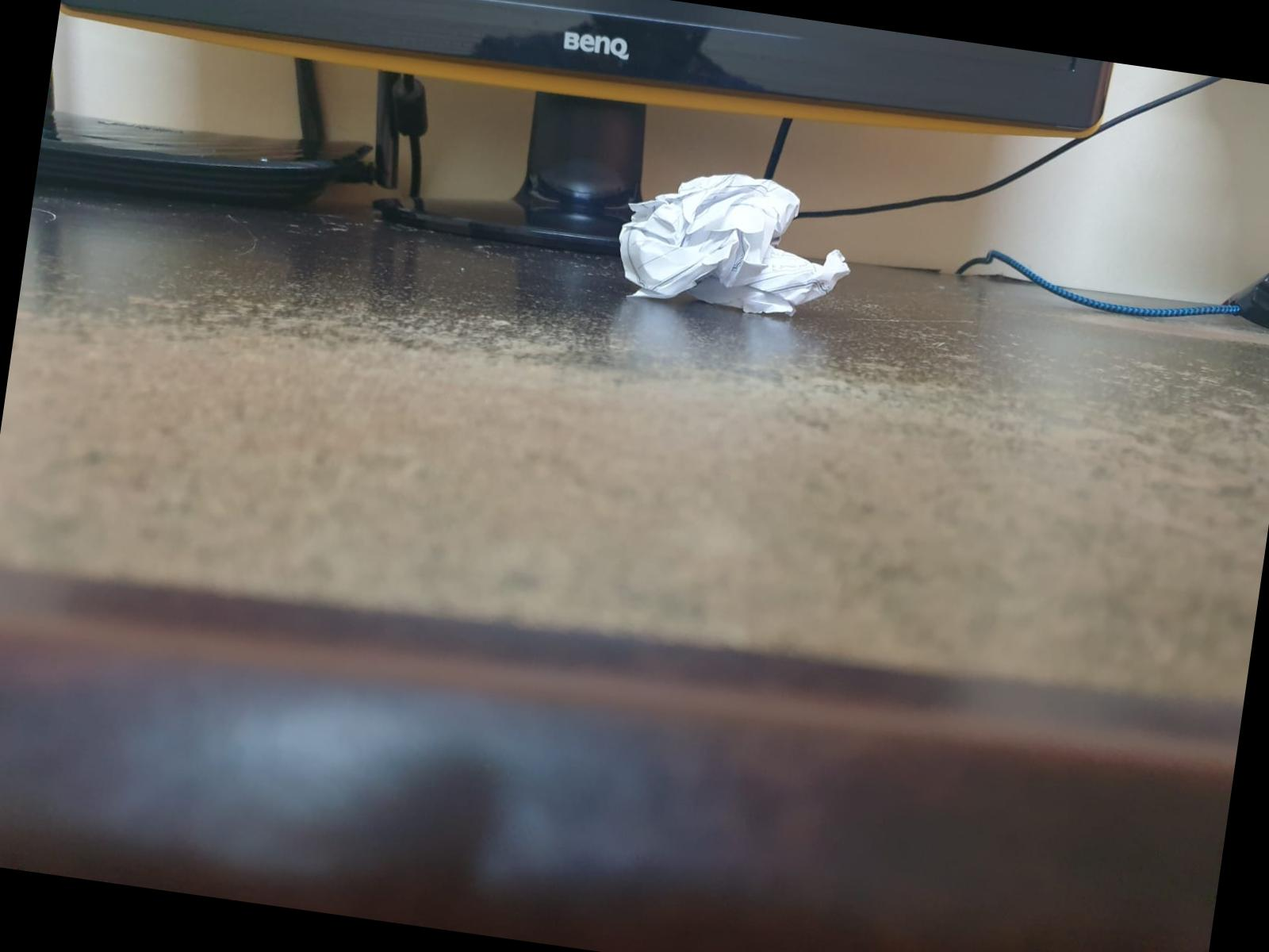Kertas: (619, 175, 848, 314)
